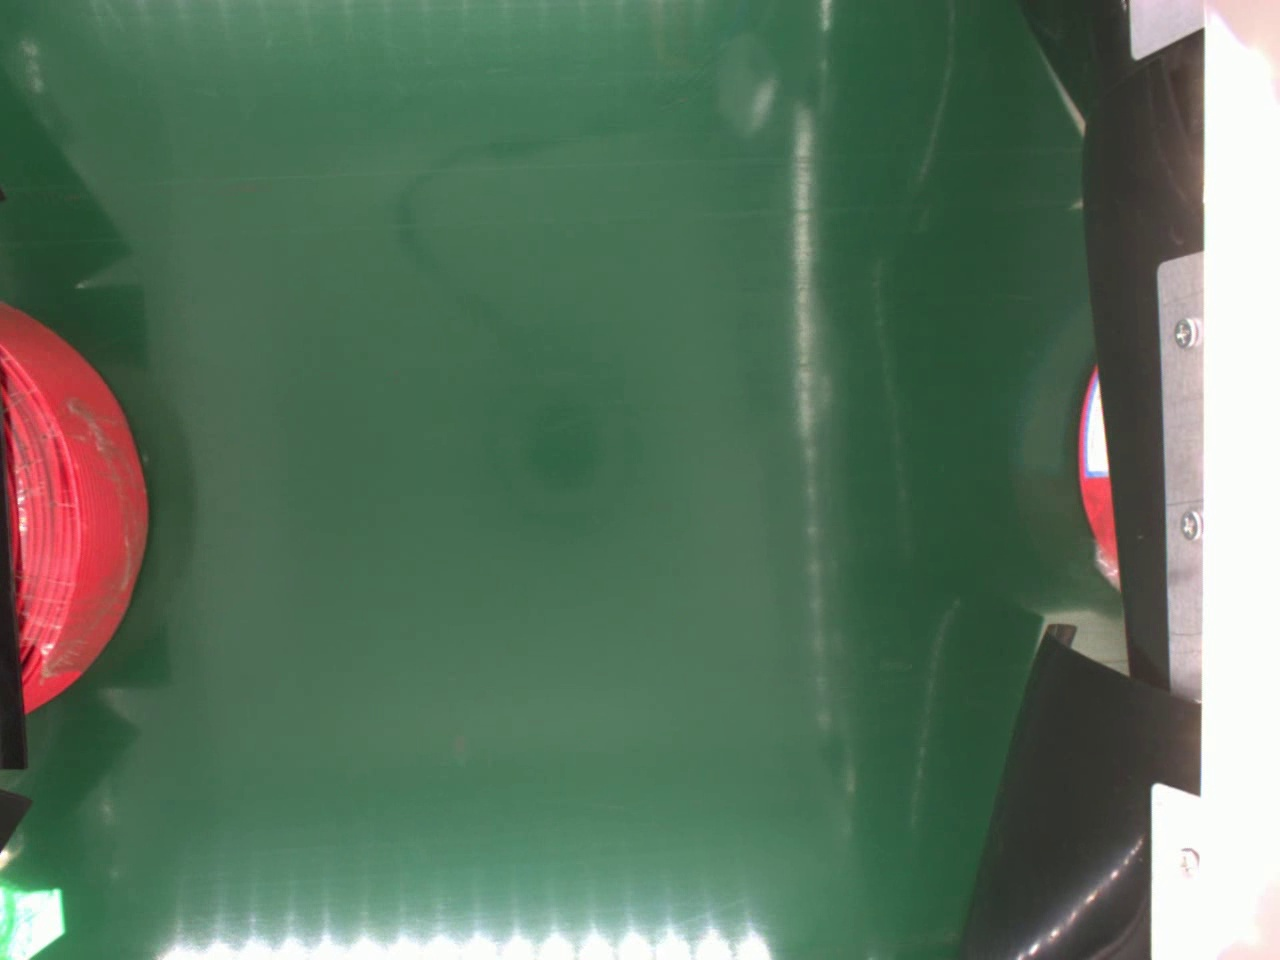red: (0, 302, 150, 724)
